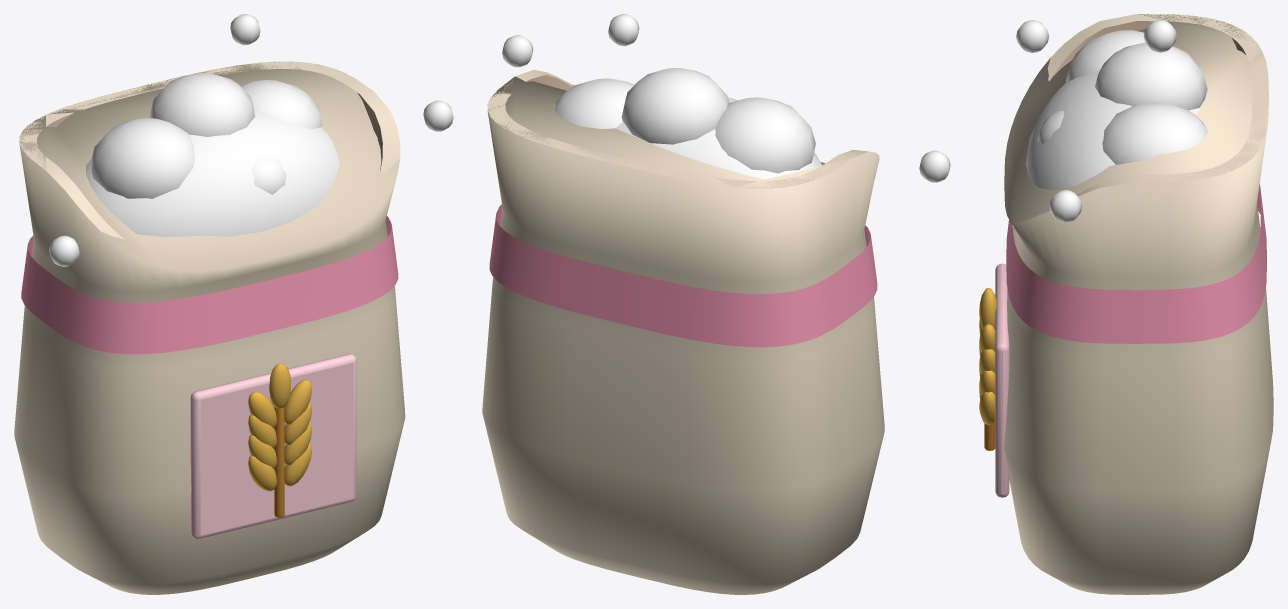
The model's file is flour.glb.
3 views of the same model, side by side, from view 1: azimuth 30°, elevation 25°; view 2: azimuth 150°, elevation 25°; view 3: azimuth 270°, elevation 25° (orthographic). The views are drawn at different scales.
Parts seen in each view (by area): view 1: cf6e7cf, cffffff, band, label, ce8b64a, stalk; view 2: cf6e7cf, band, cffffff; view 3: cf6e7cf, cffffff, band, label, ce8b64a, inside.
Part boxes in pixels (left/top/right/bottom): cf6e7cf: left=14, top=61, right=405, bottom=594; cffffff: left=49, top=14, right=453, bottom=266; band: left=21, top=216, right=398, bottom=354; label: left=190, top=354, right=356, bottom=539; ce8b64a: left=248, top=363, right=312, bottom=491; stalk: left=274, top=407, right=284, bottom=517; cf6e7cf: left=482, top=69, right=884, bottom=594; band: left=489, top=204, right=877, bottom=347; cffffff: left=502, top=14, right=950, bottom=182; cf6e7cf: left=1004, top=14, right=1273, bottom=594; cffffff: left=1016, top=19, right=1207, bottom=222; band: left=1006, top=184, right=1266, bottom=343; label: left=995, top=263, right=1009, bottom=497; ce8b64a: left=979, top=288, right=997, bottom=425; inside: left=1050, top=21, right=1246, bottom=79.
Size of the model in its own units: 1.07 by 1.25 by 0.623.
